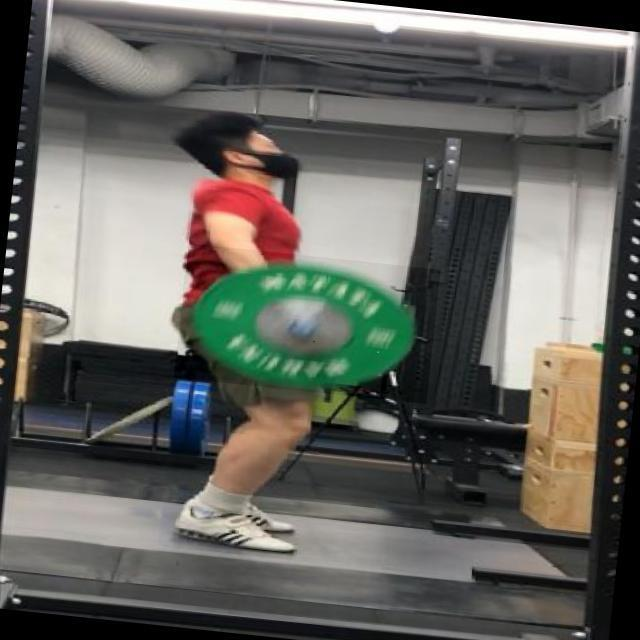barbell: (174, 244, 441, 405)
